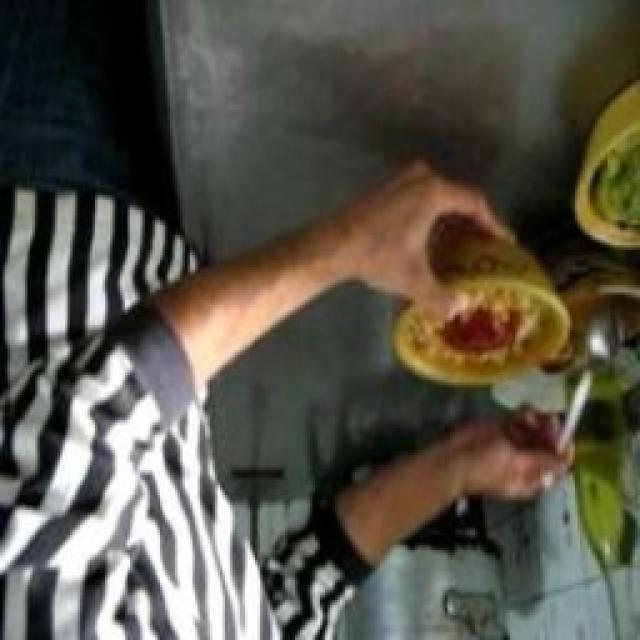Lablabi: (395, 208, 575, 385)
